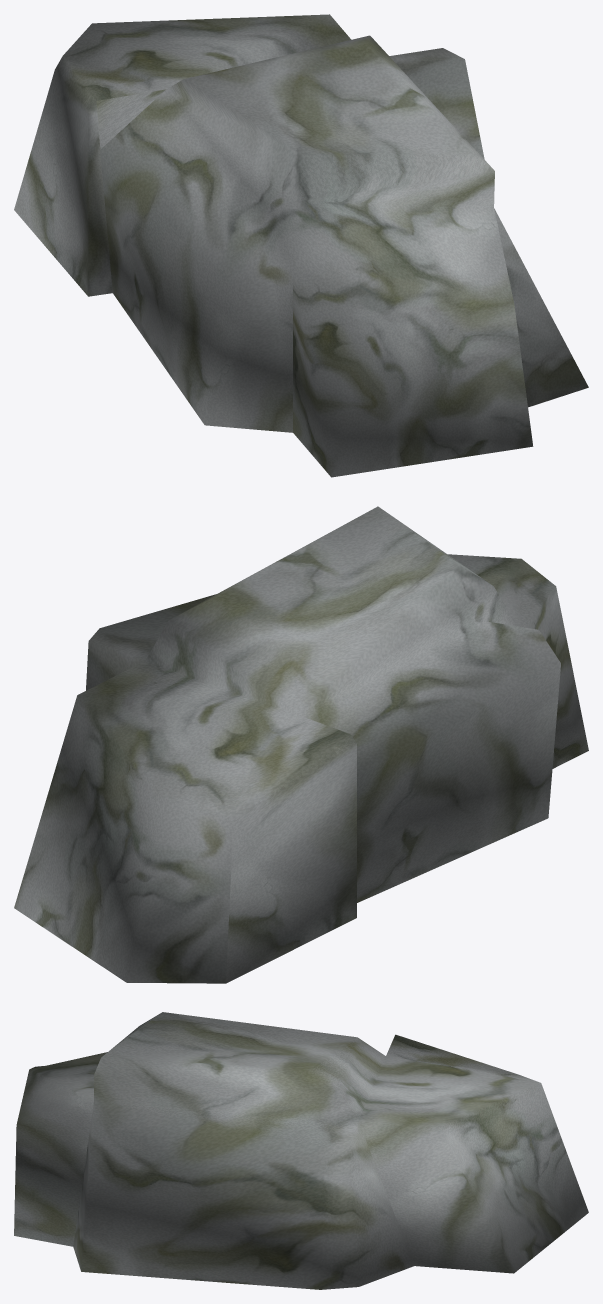
Rendered from Rock_big01.fbx.
3 views of the same model, one above another, from view 1: azimuth 30°, elevation 25°; view 2: azimuth 150°, elevation 25°; view 3: azimuth 270°, elevation 25° (orthographic). The views are drawn at different scales.
Visible parts, largest first — view 1: Rock_big01; view 2: Rock_big01; view 3: Rock_big01.
Boxes of the visible parts, left/top/right/bottom form: Rock_big01: left=14, top=14, right=588, bottom=477; Rock_big01: left=14, top=506, right=588, bottom=983; Rock_big01: left=14, top=1012, right=588, bottom=1289.
Size of the model in its own units: 2.45 by 1.53 by 4.46.
1 material, 1 textured.
